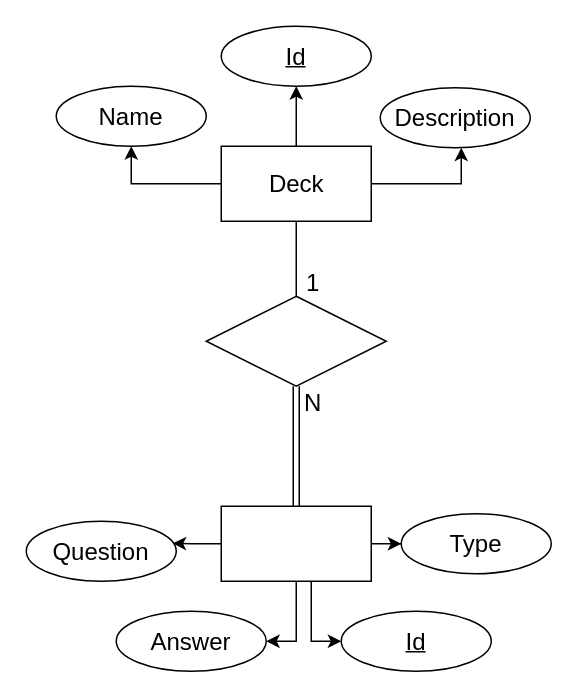
This 578x698 diagram has some shape labels left out. The shapes that lost their labels are listed below. From the top down, each one's box as (x1, y1, x2, y2) in pixels, then its label:
(205, 295, 386, 386): has
(220, 505, 371, 581): Flashcard
